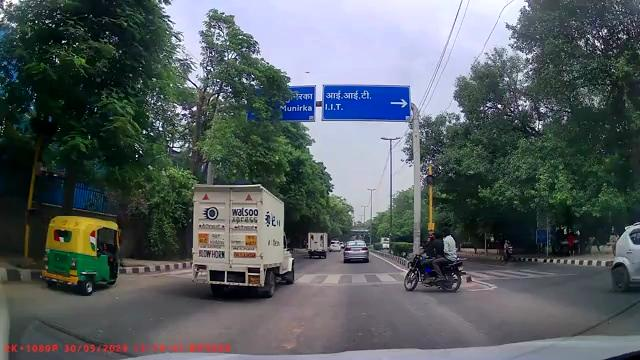motorcycle_without_helmet: (403, 232, 462, 293)
